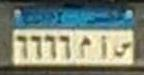6: (43, 33, 58, 59), (16, 33, 29, 61), (30, 33, 42, 62), (58, 34, 72, 58)
alif: (98, 33, 109, 60)
meem: (78, 34, 92, 59)
seen: (113, 38, 132, 59)
